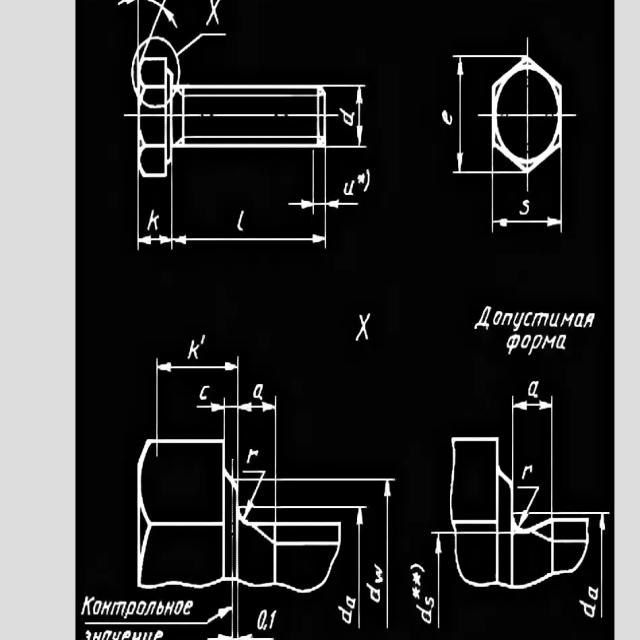marking_line: (155, 178, 359, 250), (343, 477, 397, 637), (152, 357, 240, 437), (80, 589, 235, 627), (513, 396, 557, 510), (451, 52, 490, 174), (491, 174, 565, 232), (200, 589, 277, 640), (277, 475, 396, 505), (236, 395, 279, 478), (343, 505, 369, 632), (329, 81, 367, 152), (533, 399, 556, 511), (430, 529, 453, 629), (591, 510, 610, 624), (287, 149, 319, 215), (324, 150, 358, 210), (117, 0, 176, 33), (510, 396, 532, 481), (278, 504, 369, 521), (134, 180, 156, 249), (156, 178, 175, 250), (196, 397, 226, 438), (243, 466, 264, 519), (178, 32, 225, 55), (205, 0, 220, 27), (244, 498, 255, 519)
numeric: (257, 607, 268, 630), (269, 611, 277, 630)
special_symbol: (363, 167, 372, 192), (410, 563, 425, 573), (413, 572, 421, 586), (411, 586, 420, 598), (358, 172, 366, 183)
